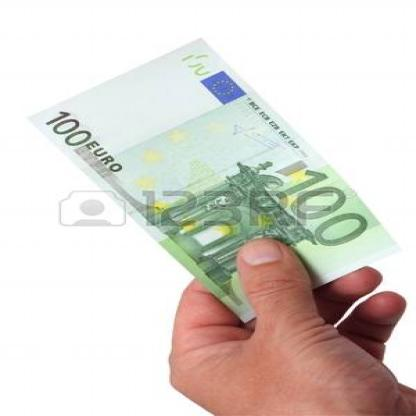billete: (22, 36, 405, 324)
